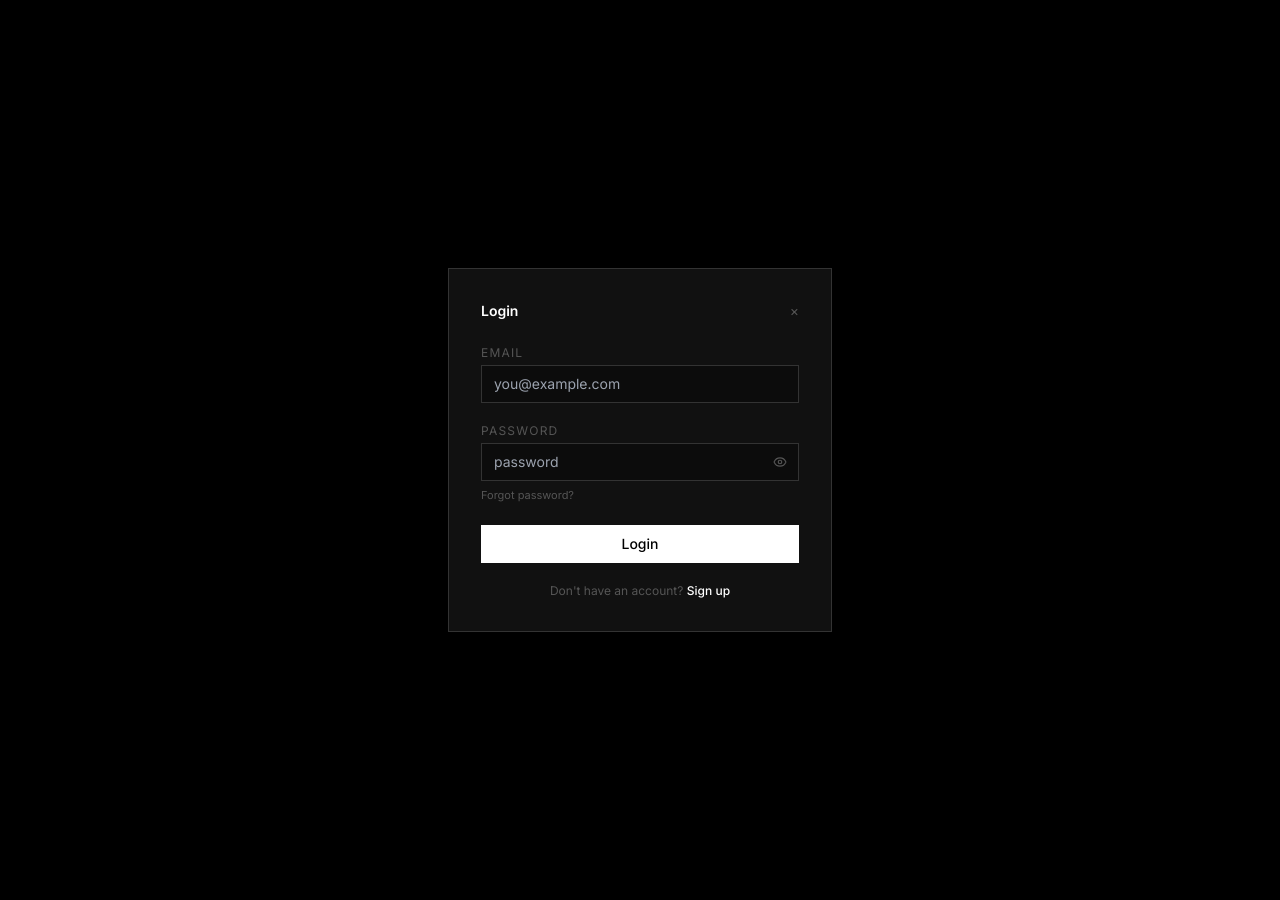
AuthModal › shows the API detail message on auth failure
The width and height of the screenshot is (1280, 900).
Type "user@example.com" into the field with placeholder "you@example.com" at (640, 384), box 481,365 -> 799,403
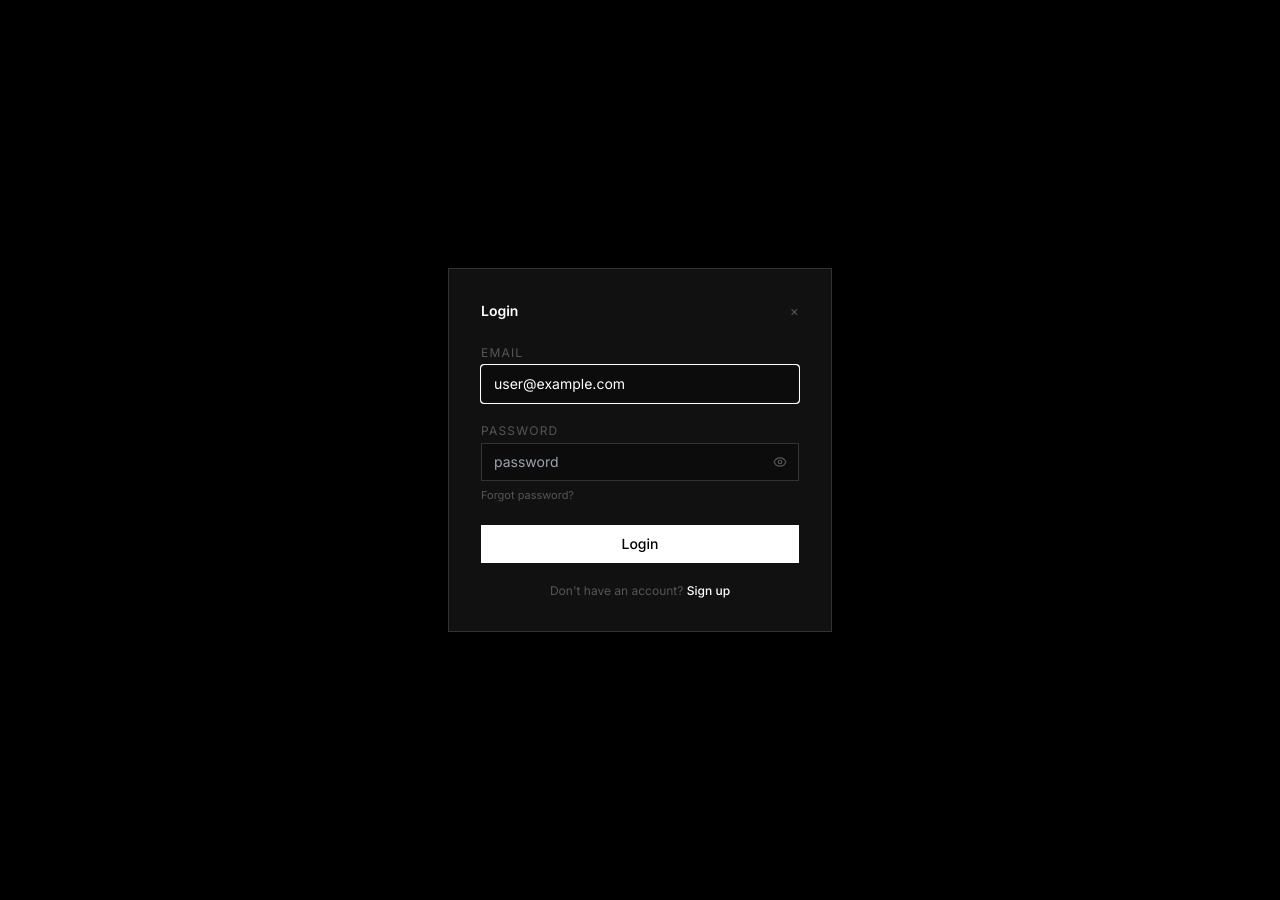
Type "wrongpass1" into the password field with placeholder "password" at (640, 462), box 481,443 -> 799,481
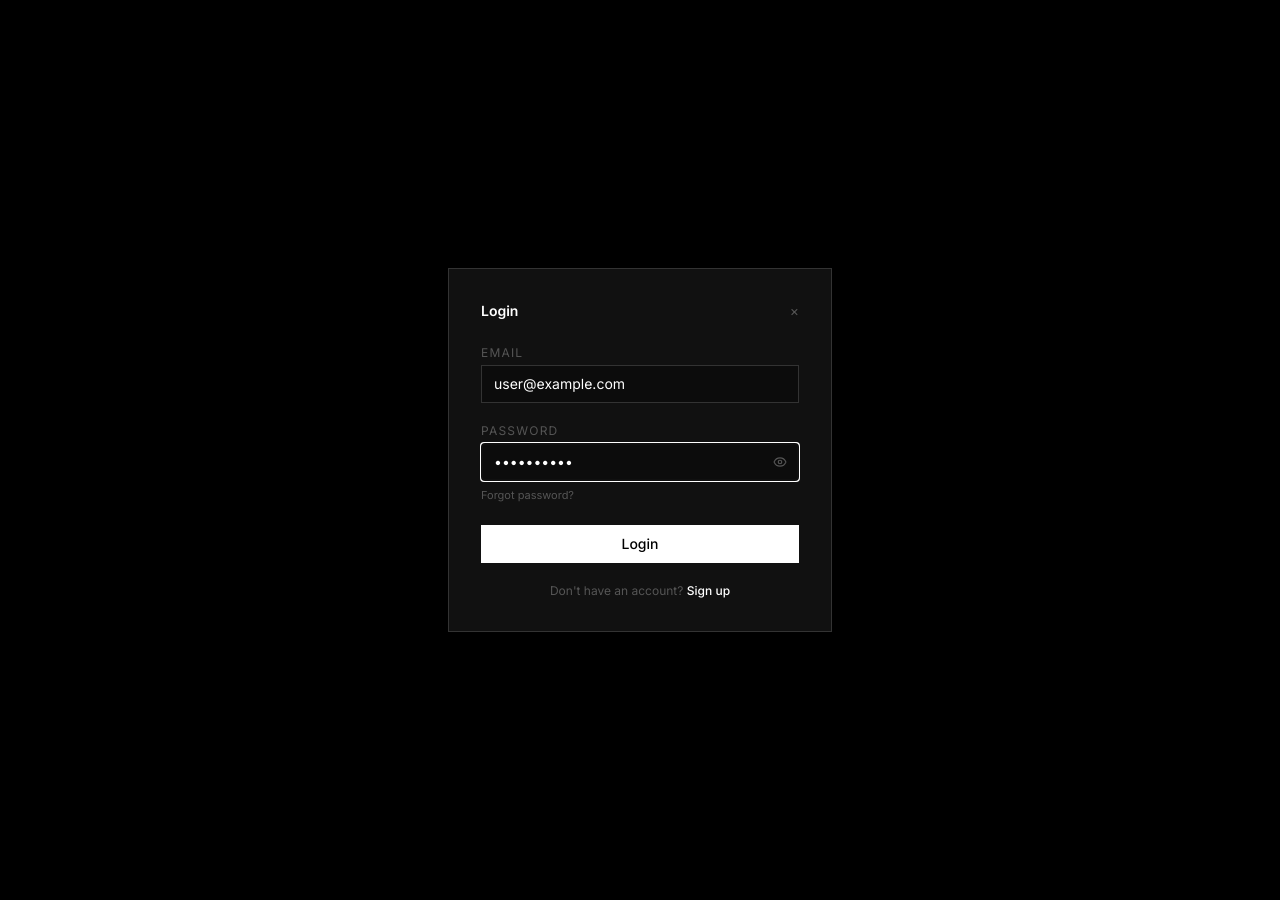
Click the button "Login" at (640, 544), box 481,525 -> 799,563
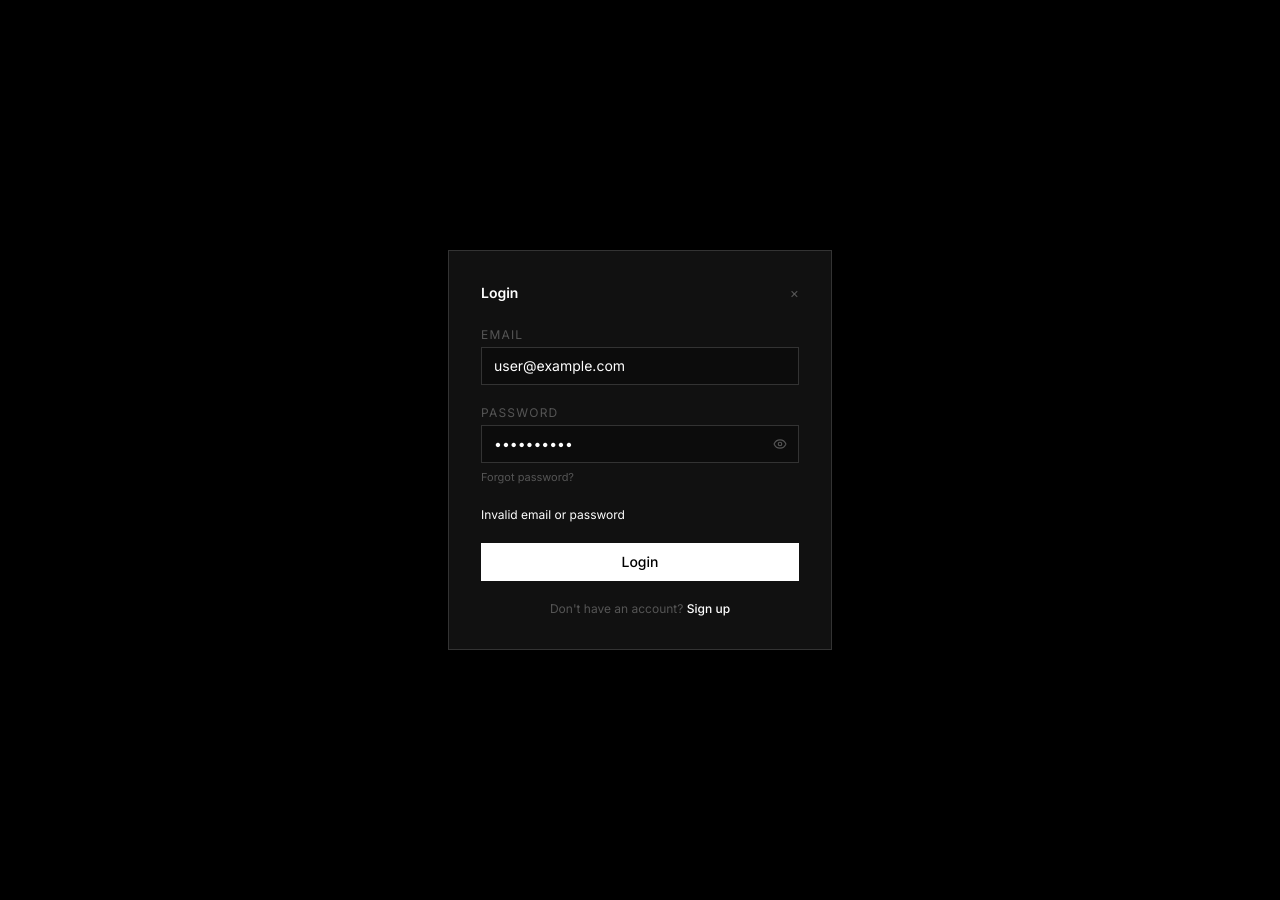
Now the text "Invalid email or password" is shown, box 481,507 -> 625,522
